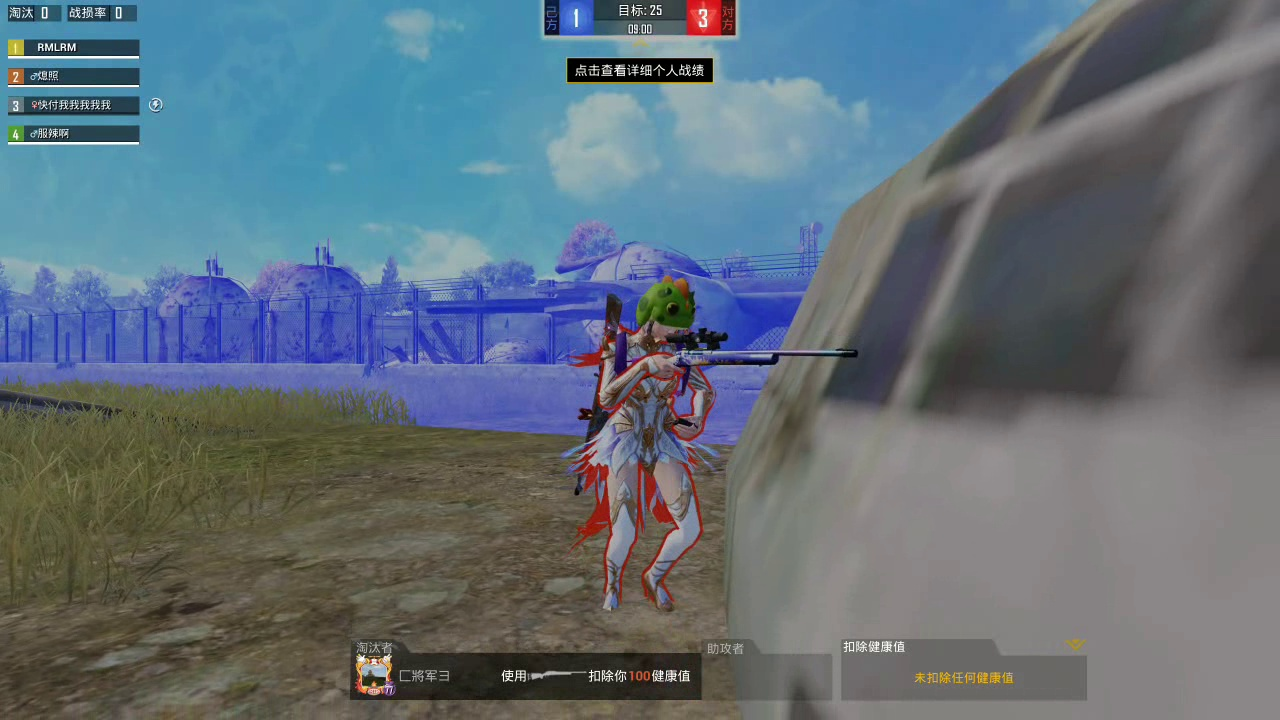enemy: (589, 274, 703, 616)
